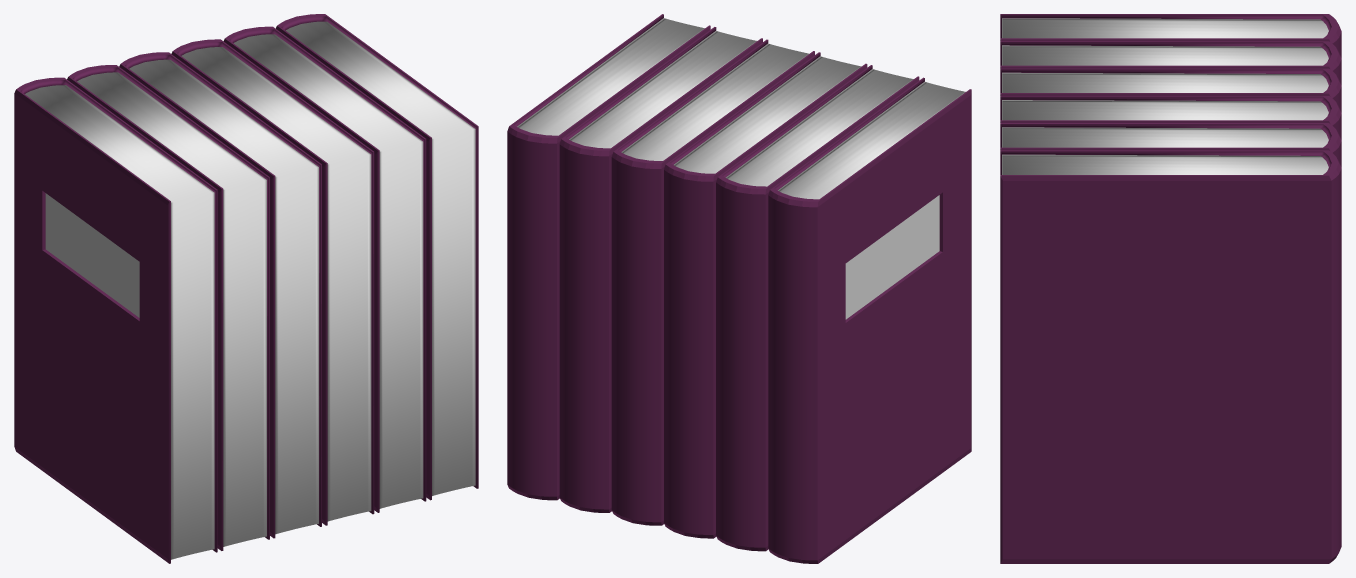
Rendered from yofukasi_book.fbx.
3 renders of one model, left to right at view 1: azimuth 30°, elevation 25°; view 2: azimuth 150°, elevation 25°; view 3: azimuth 270°, elevation 25°, orthographic. The views are drawn at different scales.
Visible parts, largest first — view 1: Cube.010; view 2: Cube.010; view 3: Cube.010.
Boxes of the visible parts, x1=… form: Cube.010: x1=14, y1=14, x2=478, y2=563; Cube.010: x1=507, y1=14, x2=971, y2=563; Cube.010: x1=1000, y1=14, x2=1341, y2=563.
Bounding box in the file's own units: 108 × 120 × 95.72.
